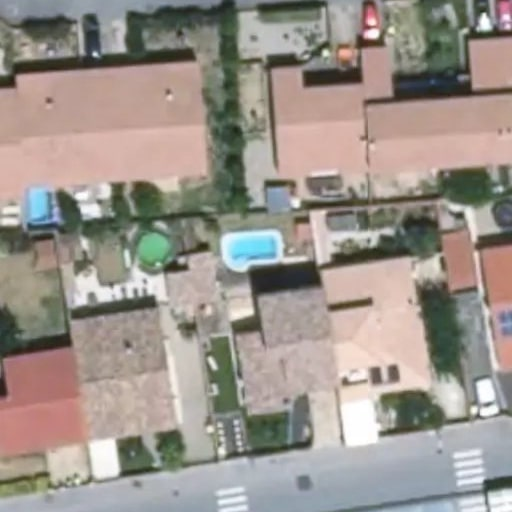pool: (223, 231, 282, 264), (26, 186, 53, 226)
